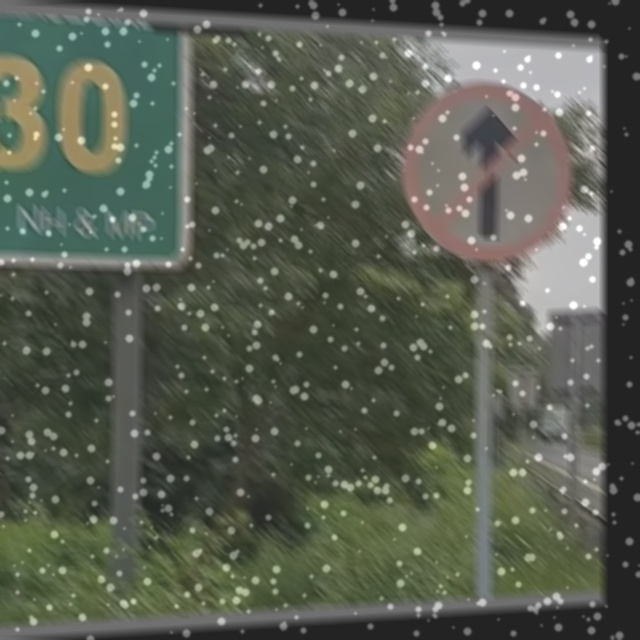No_Entry: (403, 76, 572, 259)
